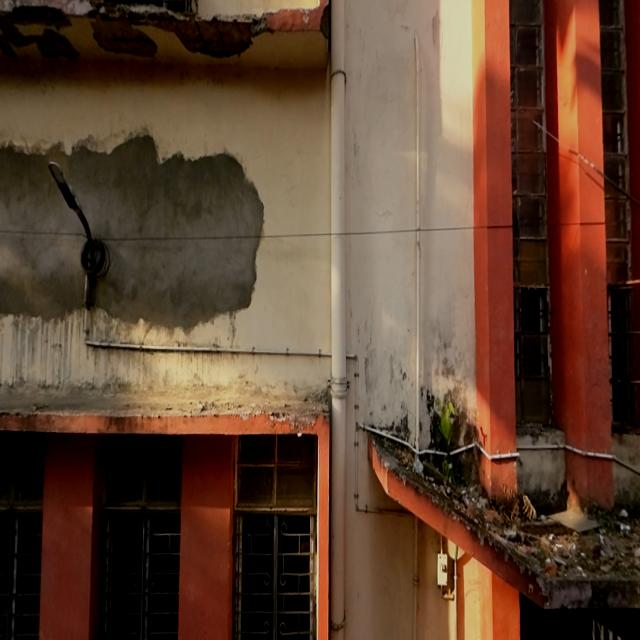Incomplete Plaster Work: (61, 136, 264, 330), (0, 148, 83, 317)
Spalling: (0, 0, 275, 62)
